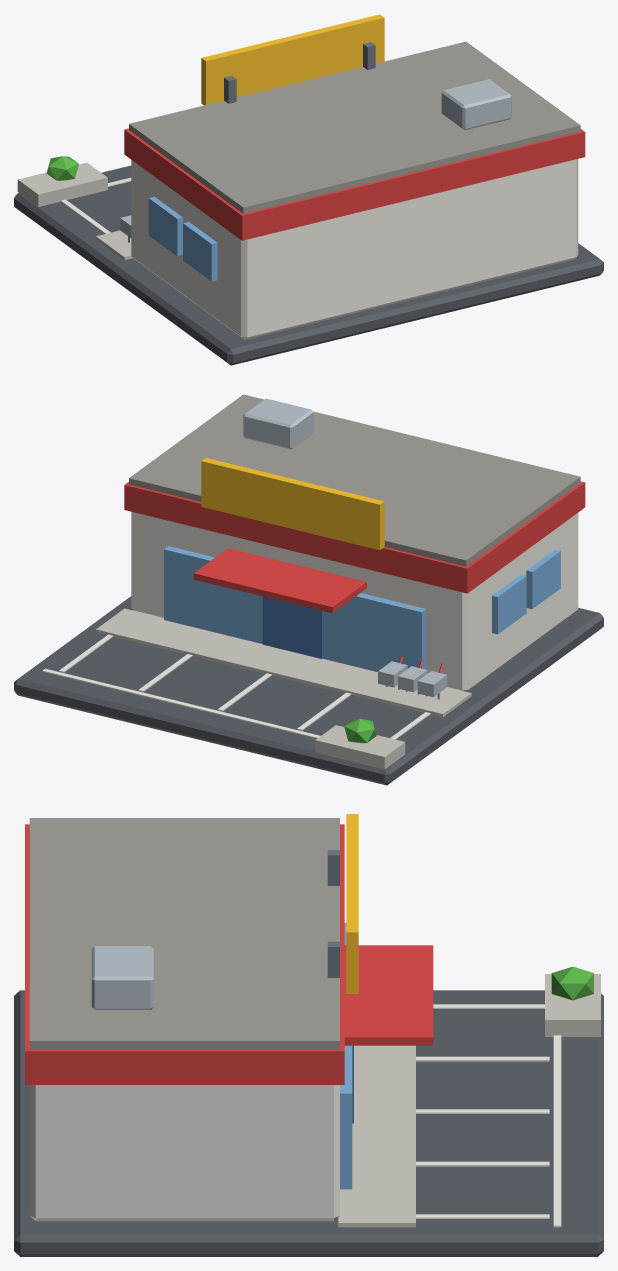
Rendered from kit-cidade-mercado.glb.
The picture shows the model from 3 angles, top to bottom: view 1: azimuth 30°, elevation 25°; view 2: azimuth 150°, elevation 25°; view 3: azimuth 270°, elevation 25°; orthographic projection. The views are drawn at different scales.
Visible parts, largest first — view 1: corpo; view 2: corpo; view 3: corpo.
Boxes of the visible parts, box(x1,y1,x2,y2) form: corpo: box(14, 14, 603, 365); corpo: box(14, 394, 603, 785); corpo: box(14, 814, 603, 1256).
Bounding box in the file's own units: 1.9 × 0.9299 × 1.9.
